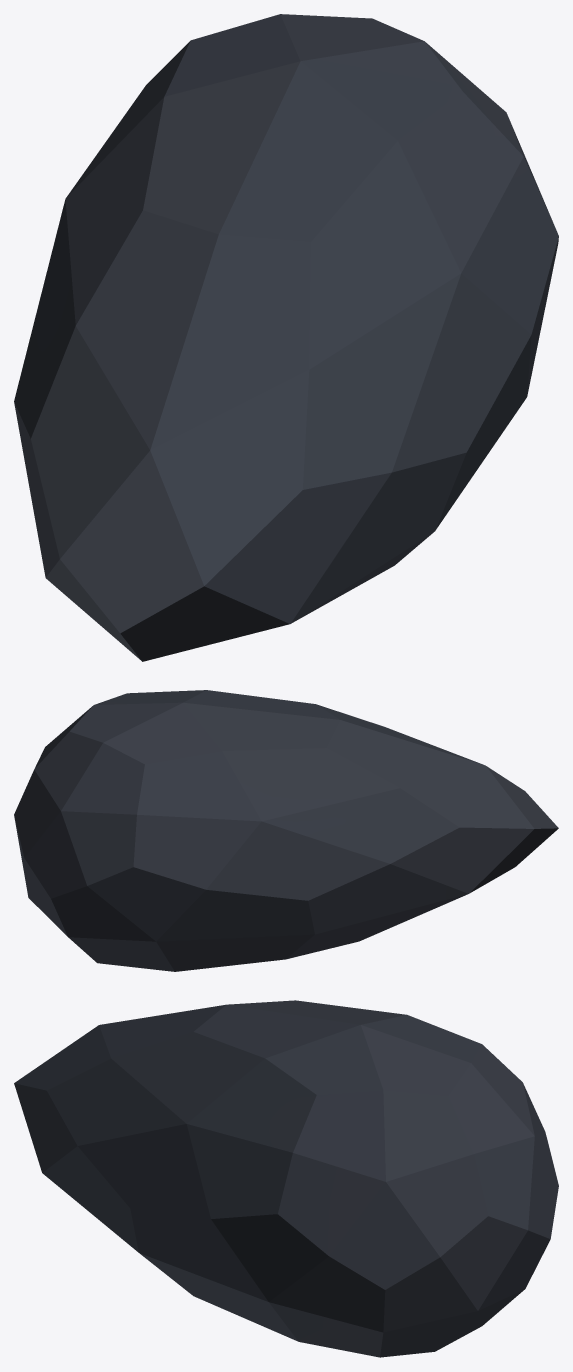
Rendered from Rock_001.fbx.
The picture shows the model from 3 angles, top to bottom: view 1: azimuth 30°, elevation 25°; view 2: azimuth 150°, elevation 25°; view 3: azimuth 270°, elevation 25°; orthographic projection. The views are drawn at different scales.
Visible parts, largest first — view 1: Rock_001; view 2: Rock_001; view 3: Rock_001.
Boxes of the visible parts, x1,y1,x2,y2 form: Rock_001: (14, 14, 558, 661); Rock_001: (14, 690, 558, 971); Rock_001: (14, 1000, 558, 1357).
Size of the model in its own units: 187 by 120 by 191.
